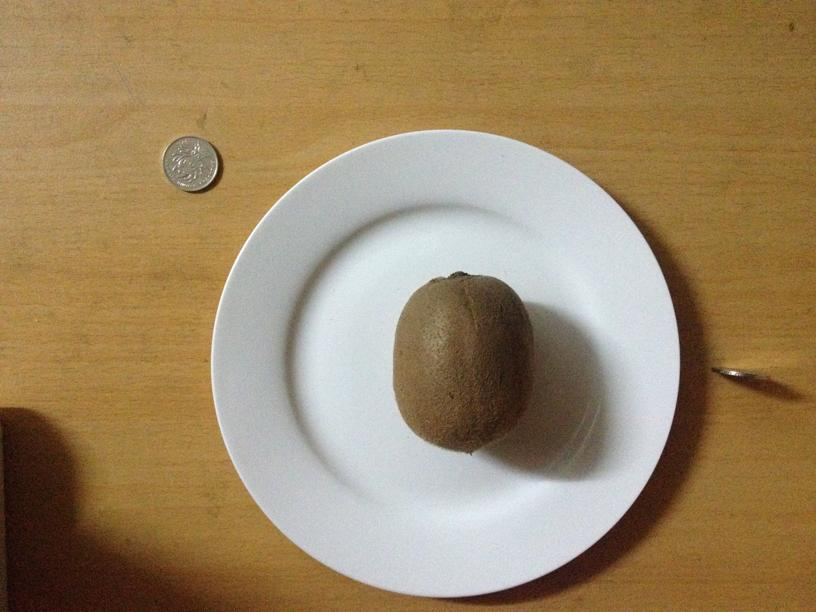coin: (160, 135, 222, 191)
qiwi: (395, 268, 532, 452)
